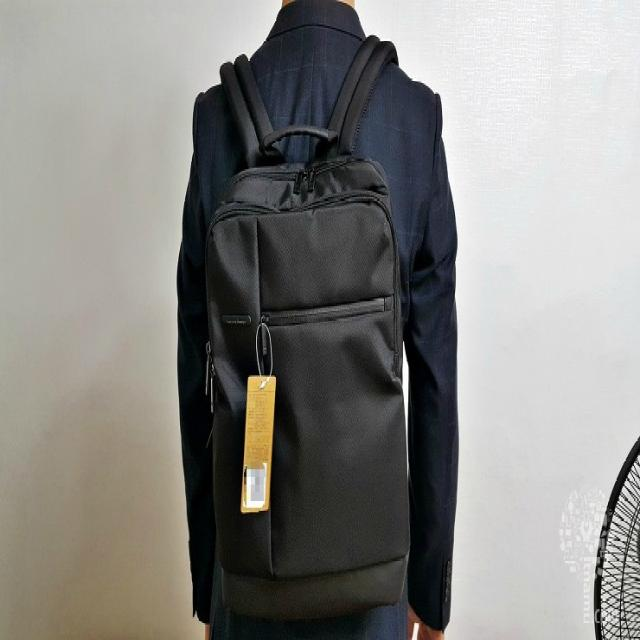backpack: (182, 146, 434, 638)
